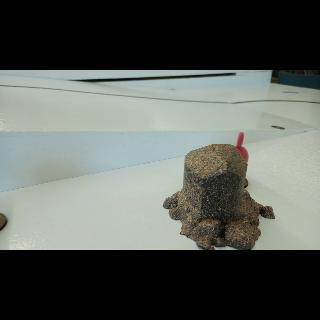teletubby: (235, 132, 248, 162)
